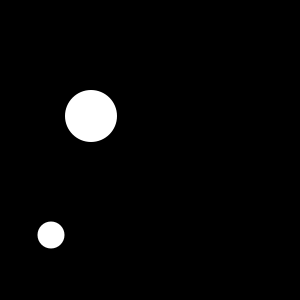rectangle: (65, 90, 117, 142), (38, 222, 65, 248)
